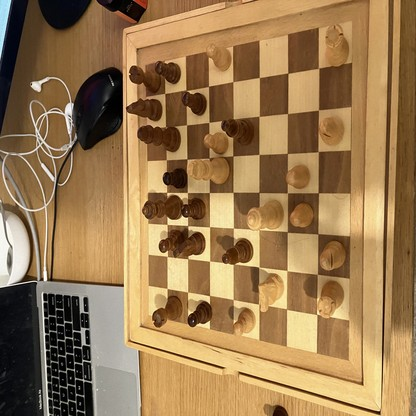bishop_black: (221, 119, 254, 147), (222, 239, 254, 264)
bishop_white: (320, 240, 346, 270), (320, 118, 345, 145)
king_black: (138, 125, 181, 151)
king_white: (186, 157, 230, 183)
knight_black: (126, 98, 163, 122), (173, 234, 206, 259)
knight_white: (258, 273, 285, 311)
pawn_black: (155, 60, 181, 85), (158, 230, 185, 254), (188, 300, 212, 327), (181, 92, 207, 115), (163, 168, 188, 189), (183, 199, 206, 220)
pawn_white: (207, 43, 232, 72), (233, 309, 256, 337), (286, 166, 311, 189), (203, 133, 229, 154), (290, 204, 313, 227)
queen_black: (142, 195, 182, 221)
queen_white: (247, 200, 284, 229)
rock_black: (152, 297, 182, 329), (128, 67, 161, 92)
rock_white: (324, 25, 350, 65), (317, 280, 344, 317)
